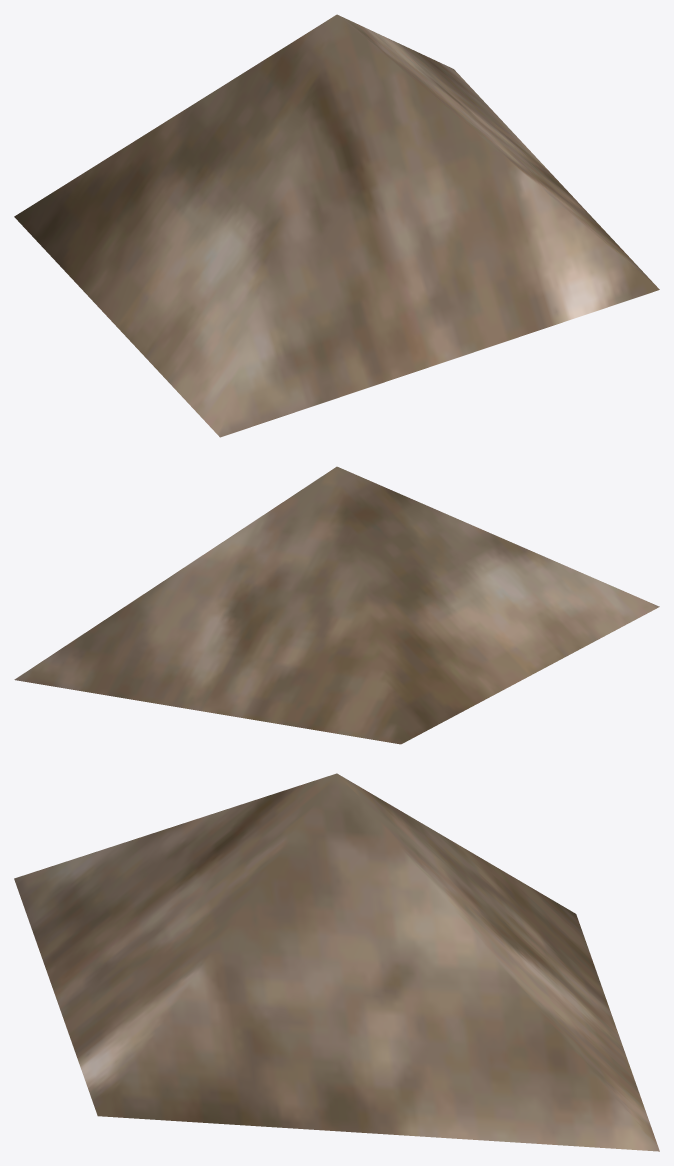
Rendered from OVERHILL_A_01_PLANE02.fbx.
The picture shows the model from 3 angles, top to bottom: view 1: azimuth 30°, elevation 25°; view 2: azimuth 150°, elevation 25°; view 3: azimuth 270°, elevation 25°; orthographic projection. The views are drawn at different scales.
Parts seen in each view (by area): view 1: OVERHILL_A_01_PLANE02; view 2: OVERHILL_A_01_PLANE02; view 3: OVERHILL_A_01_PLANE02.
Boxes of the visible parts, box(x1,y1,x2,y2) form: OVERHILL_A_01_PLANE02: box(14, 14, 659, 437); OVERHILL_A_01_PLANE02: box(14, 466, 659, 744); OVERHILL_A_01_PLANE02: box(14, 773, 659, 1151).
Size of the model in its own units: 1126 by 465 by 1126.
Materials: 1 (1 with a texture image).
